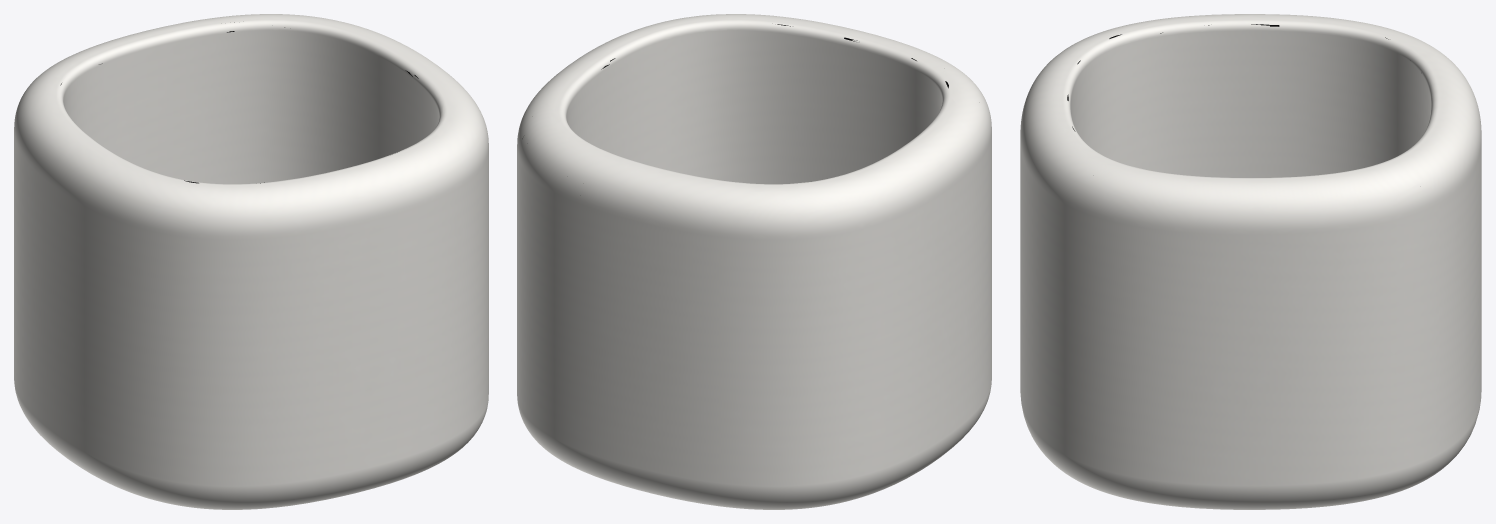
File: teacup.glb
The picture shows the model from 3 angles, left to right: view 1: azimuth 30°, elevation 25°; view 2: azimuth 150°, elevation 25°; view 3: azimuth 270°, elevation 25°; orthographic projection.
Bounding box in the file's own units: 0.055 × 0.043 × 0.055.
Materials: 2 (1 with a texture image).
